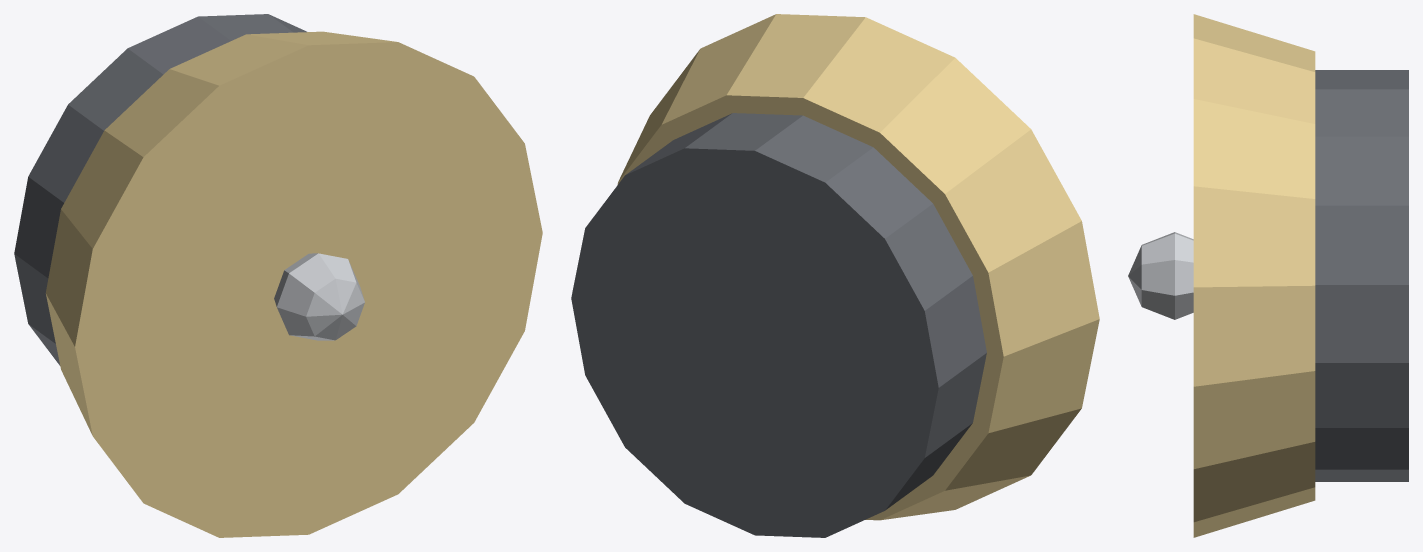
File: bank-vault-heist-kit-alarm-bell-00525a20__25111.glb
The picture shows the model from 3 angles, left to right: view 1: azimuth 30°, elevation 25°; view 2: azimuth 150°, elevation 25°; view 3: azimuth 270°, elevation 25°; orthographic projection. The views are drawn at different scales.
Parts seen in each view (by area): view 1: alarm-bell; view 2: alarm-bell; view 3: alarm-bell.
Part boxes in pixels (x1=…): alarm-bell: x1=14, y1=14, x2=542, y2=537; alarm-bell: x1=571, y1=14, x2=1099, y2=537; alarm-bell: x1=1128, y1=14, x2=1408, y2=537.
Bounding box in the file's own units: 0.28 × 0.28 × 0.15.
